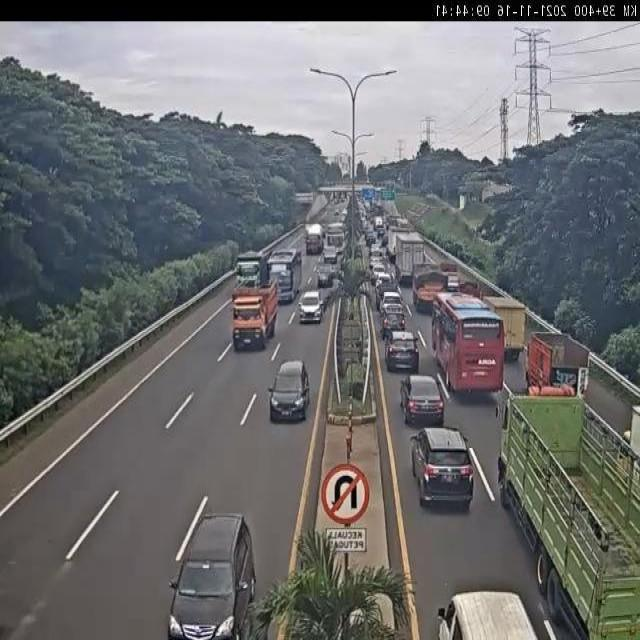Bus: (430, 290, 507, 398), (266, 246, 304, 304)
Car: (167, 512, 256, 638), (409, 426, 474, 509), (268, 359, 311, 424), (399, 374, 443, 426), (384, 331, 420, 373), (382, 302, 407, 338), (298, 290, 324, 324), (375, 280, 399, 310), (316, 264, 336, 289), (373, 271, 392, 294), (371, 262, 387, 285), (323, 245, 338, 266), (366, 232, 376, 248), (381, 233, 388, 247)
Truck: (491, 385, 640, 640), (525, 331, 589, 395), (231, 277, 280, 351), (483, 290, 525, 360), (392, 233, 426, 286), (414, 268, 449, 314), (234, 247, 272, 289), (620, 396, 640, 456), (388, 224, 410, 261), (326, 222, 348, 252), (304, 224, 324, 256)
Van: (435, 587, 541, 640), (367, 242, 385, 269)
